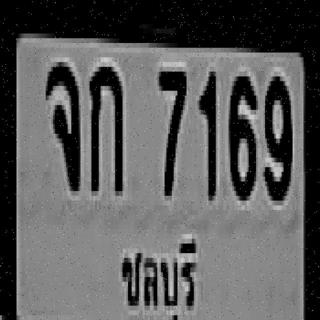A01: (88, 62, 121, 191)
A08: (44, 57, 79, 186)
N01: (198, 67, 214, 196)
N06: (227, 72, 254, 196)
N07: (157, 67, 185, 191)
N09: (263, 72, 289, 196)
P13: (113, 226, 201, 320)
